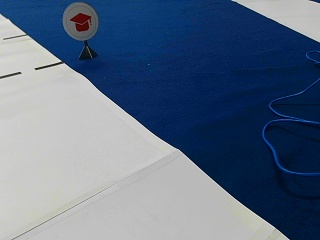school: (63, 2, 98, 40)
